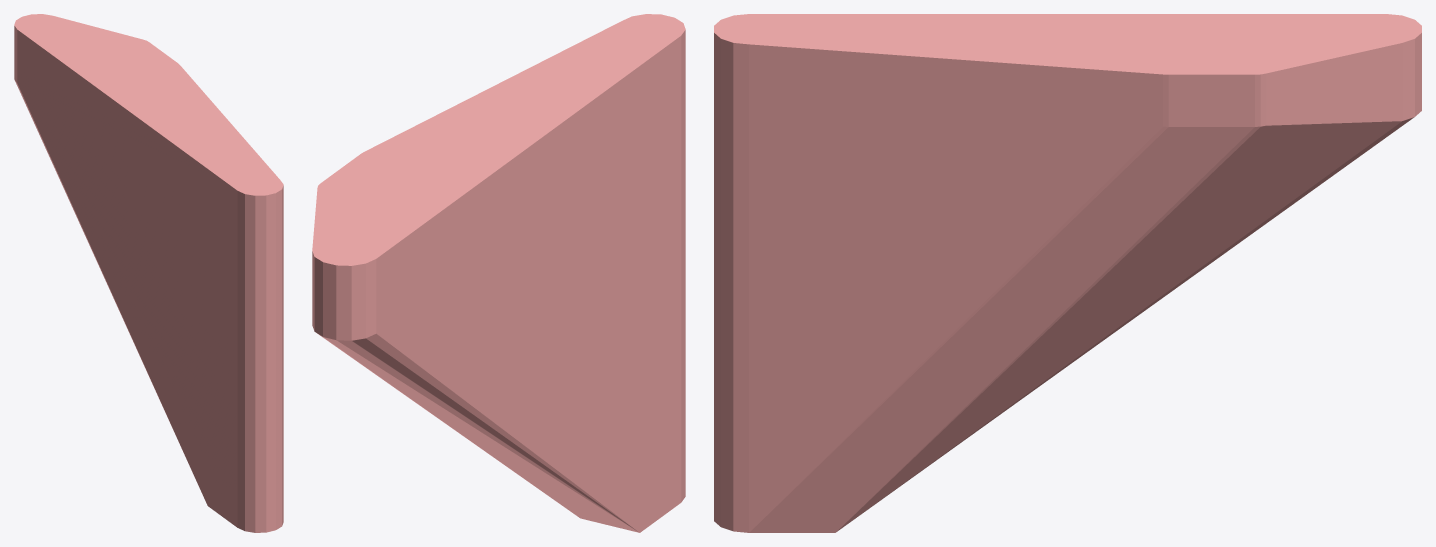
The model's file is rambler_Brazo1dyn_coll_1.dae.
The picture shows the model from 3 angles, left to right: view 1: azimuth 30°, elevation 25°; view 2: azimuth 150°, elevation 25°; view 3: azimuth 270°, elevation 25°; orthographic projection. The views are drawn at different scales.
Visible parts, largest first — view 1: Node_0x7fe0fc4d5380; view 2: Node_0x7fe0fc4d5380; view 3: Node_0x7fe0fc4d5380.
Boxes of the visible parts, left/top/right/bottom form: Node_0x7fe0fc4d5380: left=14, top=14, right=283, bottom=532; Node_0x7fe0fc4d5380: left=312, top=14, right=685, bottom=532; Node_0x7fe0fc4d5380: left=714, top=14, right=1421, bottom=532.
Size of the model in its own units: 0.1 by 0.3747 by 0.492.
